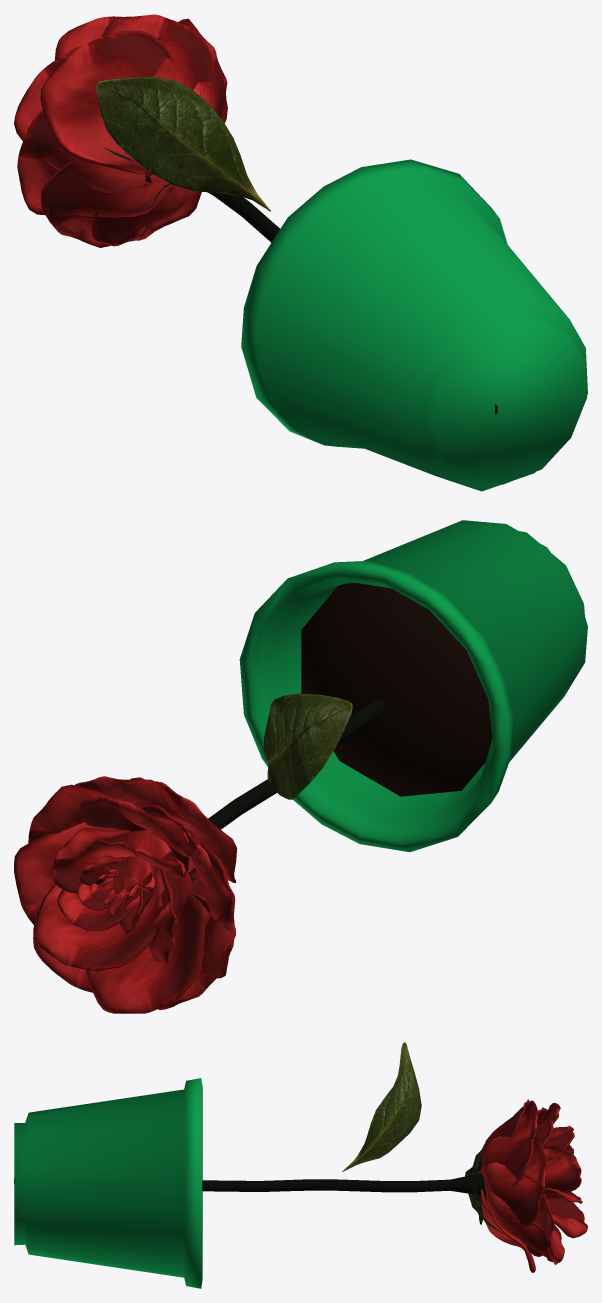
Rendered from redrose0620.obj.
3 views of the same model, one above another, from view 1: azimuth 30°, elevation 25°; view 2: azimuth 150°, elevation 25°; view 3: azimuth 270°, elevation 25° (orthographic). The views are drawn at different scales.
Visible parts, largest first — view 1: Pot_Cylinder, Rose_head_Plane.001, Rose_stem_Plane.003, Rose_Leaf_Cylinder.001; view 2: Pot_Cylinder, Rose_head_Plane.001, Rose_stem_Plane.003, Rose_Leaf_Cylinder.001; view 3: Pot_Cylinder, Rose_head_Plane.001, Rose_Leaf_Cylinder.001, Rose_stem_Plane.003, Rose_stem_top_Plane.002.
Boxes of the visible parts, x1=… form: Pot_Cylinder: x1=241, y1=159, x2=587, y2=491; Rose_head_Plane.001: x1=14, y1=14, x2=227, y2=247; Rose_stem_Plane.003: x1=96, y1=77, x2=270, y2=211; Rose_Leaf_Cylinder.001: x1=208, y1=192, x2=497, y2=414; Pot_Cylinder: x1=239, y1=520, x2=587, y2=852; Rose_head_Plane.001: x1=14, y1=776, x2=237, y2=1013; Rose_stem_Plane.003: x1=264, y1=693, x2=352, y2=799; Rose_Leaf_Cylinder.001: x1=180, y1=698, x2=385, y2=871; Pot_Cylinder: x1=14, y1=1078, x2=202, y2=1288; Rose_head_Plane.001: x1=479, y1=1099, x2=587, y2=1272; Rose_Leaf_Cylinder.001: x1=14, y1=1173, x2=486, y2=1199; Rose_stem_Plane.003: x1=342, y1=1042, x2=421, y2=1171; Rose_stem_top_Plane.002: x1=465, y1=1144, x2=502, y2=1233.
Bounding box in the file's own units: 3.36 × 3.42 × 9.15.
